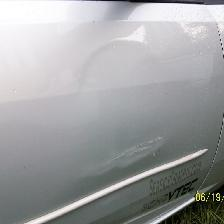scrach: (68, 132, 172, 180)
